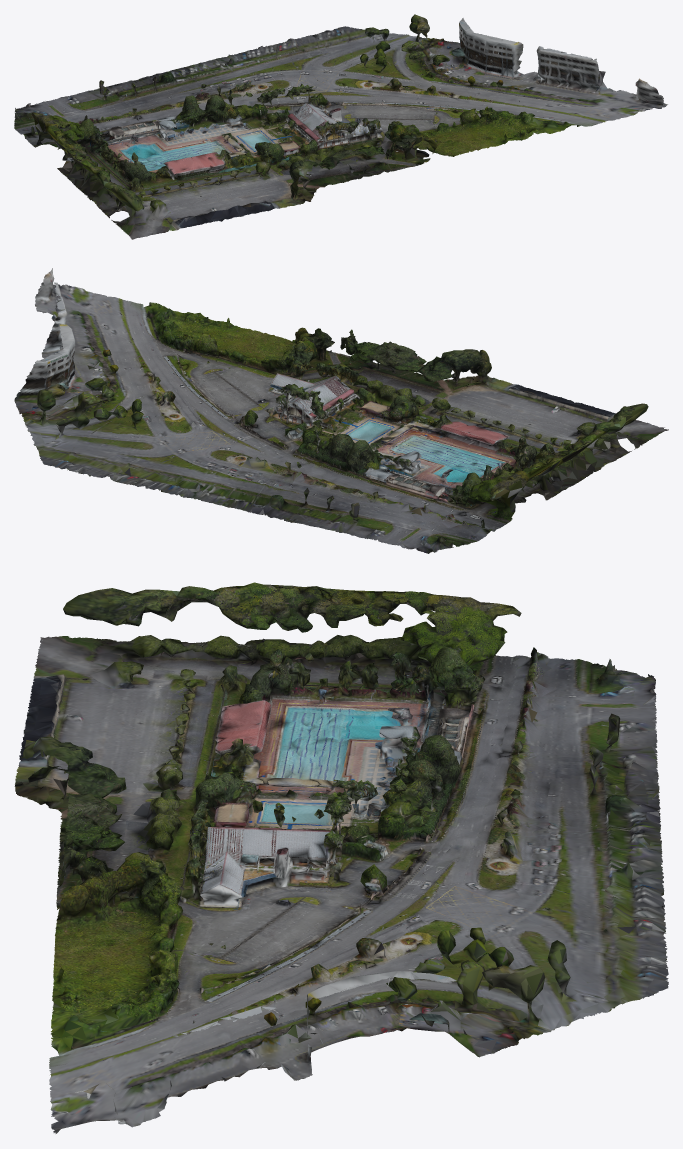
Rendered from swimming-pool.glb.
3 renders of one model, top to bottom at view 1: azimuth 30°, elevation 25°; view 2: azimuth 150°, elevation 25°; view 3: azimuth 270°, elevation 25°, orthographic. The views are drawn at different scales.
Size of the model in its own units: 32312 by 2242 by 17987.
1 material, 1 textured.
